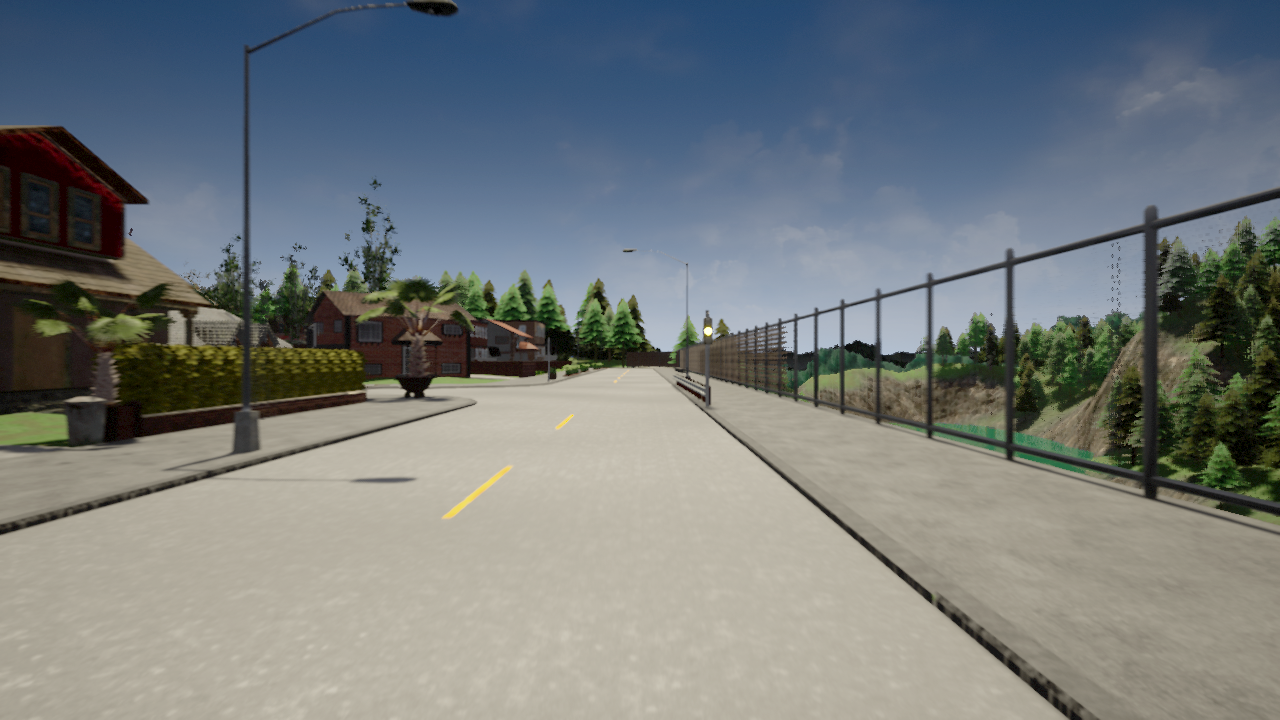yellow: (702, 316, 712, 345)
